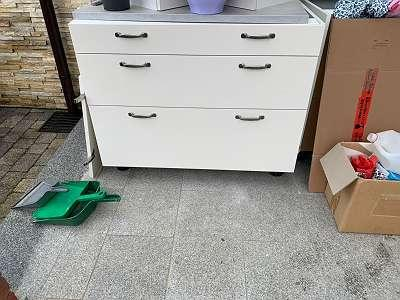cabinet_door: (94, 110, 299, 168), (80, 56, 310, 107), (76, 23, 315, 52)
handle: (239, 31, 277, 43), (237, 61, 274, 73), (118, 60, 154, 71), (233, 113, 267, 124), (126, 111, 159, 122), (114, 31, 150, 41)
